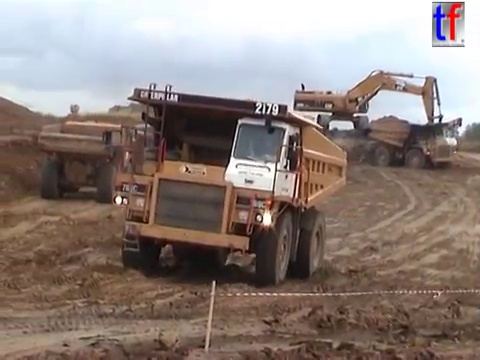excavator: (290, 67, 446, 143), (408, 116, 464, 152)
truck: (100, 81, 349, 287), (35, 118, 140, 204), (127, 123, 250, 193), (360, 118, 460, 170), (238, 109, 318, 140)
